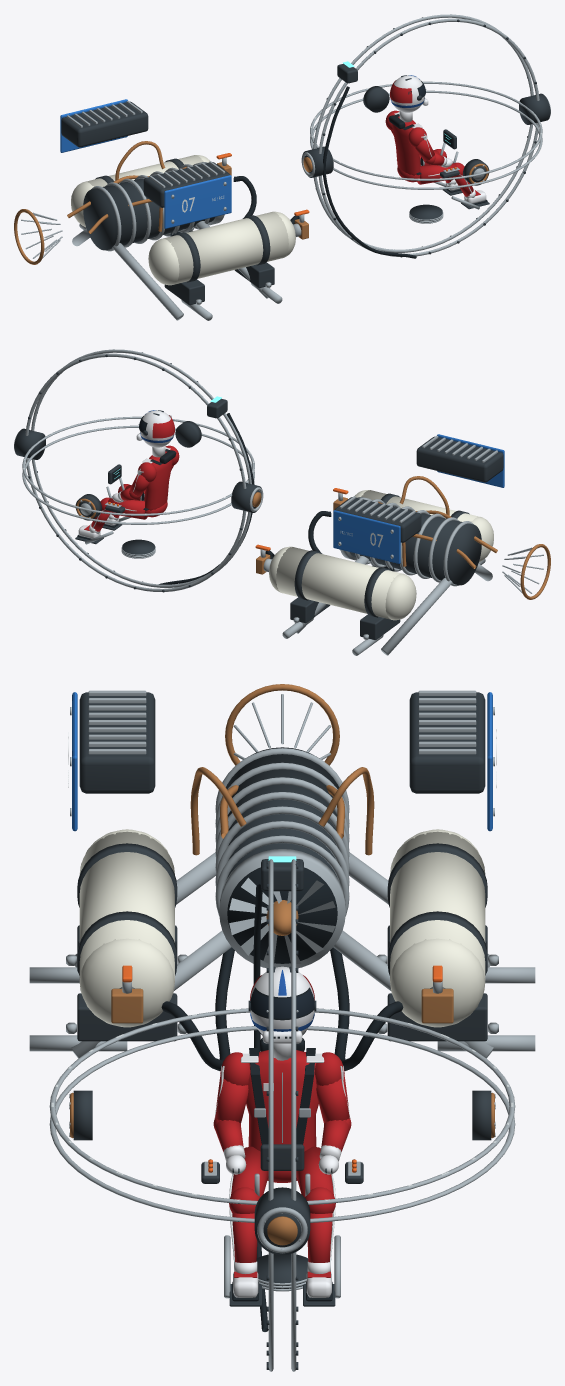
The model's file is details.glb.
3 views of the same model, one above another, from view 1: azimuth 30°, elevation 25°; view 2: azimuth 150°, elevation 25°; view 3: azimuth 270°, elevation 25° (orthographic). The views are drawn at different scales.
Visible parts, largest first — view 1: frame-details-graphite-ceramic, frame-details-ivory-enamel, frame-details-satin-titanium, fixed-details-satin-titanium, frame-details-realistic-team, seat-details-Pilot-•-red-race-fabric, roll-details-satin-titanium, fixed-details-graphite-ceramic, frame-details-warm-anodized-alloy, cradle-details-graphite-ceramic, seat-details-Pilot-•-pearl-white-helmet, fixed-details-elastomer (+3 smaller); view 2: frame-details-graphite-ceramic, frame-details-ivory-enamel, frame-details-satin-titanium, fixed-details-satin-titanium, frame-details-realistic-team, seat-details-Pilot-•-red-race-fabric, roll-details-satin-titanium, fixed-details-graphite-ceramic, frame-details-warm-anodized-alloy, cradle-details-graphite-ceramic, seat-details-Pilot-•-pearl-white-helmet, seat-details-elastomer (+3 smaller); view 3: frame-details-satin-titanium, frame-details-ivory-enamel, frame-details-graphite-ceramic, seat-details-Pilot-•-red-race-fabric, roll-details-satin-titanium, frame-details-elastomer, frame-details-warm-anodized-alloy, fixed-details-satin-titanium, seat-details-Pilot-•-pearl-white-helmet, fixed-details-graphite-ceramic, cradle-details-graphite-ceramic, seat-details-elastomer (+5 smaller).
Part boxes in pixels (bbox=[...]): frame-details-graphite-ceramic: bbox=[61, 101, 274, 304]; frame-details-ivory-enamel: bbox=[71, 155, 295, 285]; frame-details-satin-titanium: bbox=[21, 100, 304, 320]; fixed-details-satin-titanium: bbox=[301, 14, 550, 257]; frame-details-realistic-team: bbox=[60, 99, 231, 228]; seat-details-Pilot-•-red-race-fabric: bbox=[385, 80, 480, 196]; roll-details-satin-titanium: bbox=[310, 81, 542, 189]; fixed-details-graphite-ceramic: bbox=[302, 17, 550, 257]; frame-details-warm-anodized-alloy: bbox=[14, 141, 308, 264]; cradle-details-graphite-ceramic: bbox=[363, 86, 489, 222]; seat-details-Pilot-•-pearl-white-helmet: bbox=[391, 75, 486, 203]; fixed-details-elastomer: bbox=[322, 86, 416, 258]; frame-details-graphite-ceramic: bbox=[290, 436, 503, 639]; frame-details-ivory-enamel: bbox=[269, 490, 493, 620]; frame-details-satin-titanium: bbox=[260, 435, 543, 655]; fixed-details-satin-titanium: bbox=[14, 349, 263, 592]; frame-details-realistic-team: bbox=[333, 434, 504, 563]; seat-details-Pilot-•-red-race-fabric: bbox=[84, 415, 179, 531]; roll-details-satin-titanium: bbox=[22, 416, 254, 524]; fixed-details-graphite-ceramic: bbox=[14, 352, 262, 592]; frame-details-warm-anodized-alloy: bbox=[256, 476, 550, 599]; cradle-details-graphite-ceramic: bbox=[75, 421, 201, 557]; seat-details-Pilot-•-pearl-white-helmet: bbox=[78, 410, 173, 538]; seat-details-elastomer: bbox=[77, 415, 176, 541]; frame-details-satin-titanium: bbox=[29, 690, 535, 1058]; frame-details-ivory-enamel: bbox=[79, 829, 485, 1027]; frame-details-graphite-ceramic: bbox=[77, 692, 487, 1041]; seat-details-Pilot-•-red-race-fabric: bbox=[213, 975, 351, 1277]; roll-details-satin-titanium: bbox=[49, 1008, 515, 1222]; frame-details-elastomer: bbox=[161, 867, 403, 1070]; frame-details-warm-anodized-alloy: bbox=[111, 684, 453, 1023]; fixed-details-satin-titanium: bbox=[257, 859, 307, 1371]; seat-details-Pilot-•-pearl-white-helmet: bbox=[221, 966, 343, 1297]; fixed-details-graphite-ceramic: bbox=[254, 859, 310, 1369]; cradle-details-graphite-ceramic: bbox=[73, 1090, 491, 1288]; seat-details-elastomer: bbox=[232, 987, 332, 1301].
Size of the model in its own units: 104 by 44.62 by 44.
